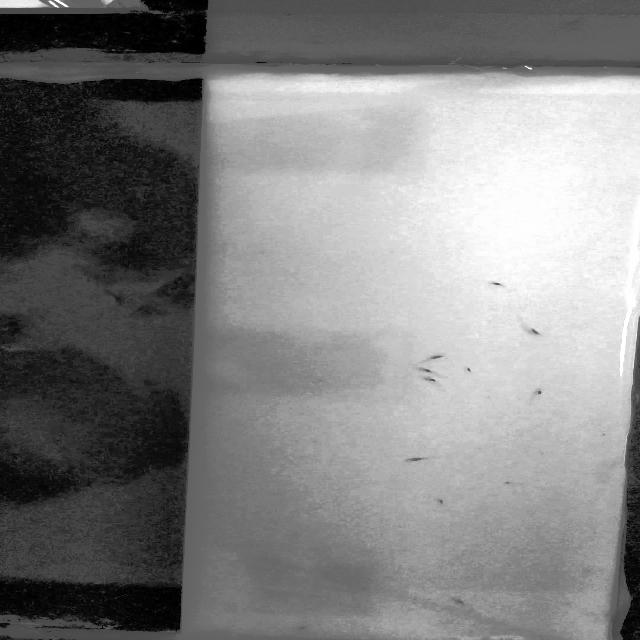shrimp: (425, 494, 460, 510), (526, 386, 556, 402), (525, 326, 555, 340), (440, 599, 480, 609), (404, 452, 432, 465), (281, 622, 314, 632), (422, 352, 456, 361), (487, 278, 510, 290), (424, 374, 449, 385), (460, 365, 482, 375), (417, 366, 440, 372)
